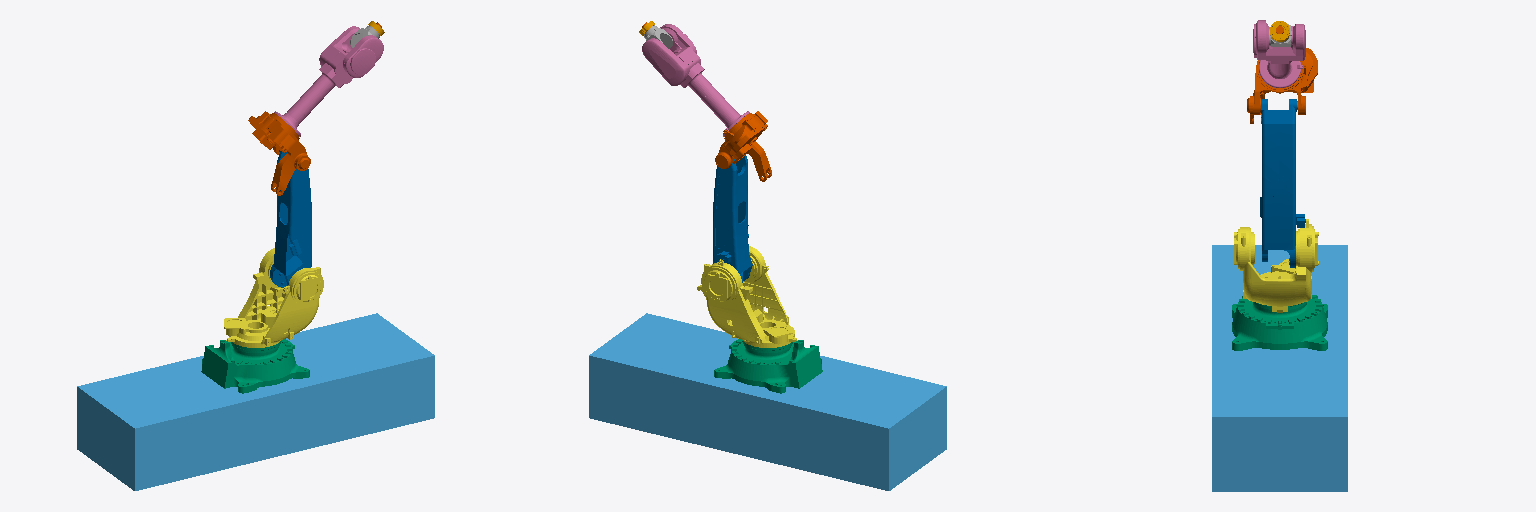
URDF robot description (right_nj130):
<?xml version="1.0" ?>
<!-- =================================================================================== -->
<!-- |    This document was autogenerated by xacro from nj130_sensor.urdf.xacro        | -->
<!-- |    EDITING THIS FILE BY HAND IS NOT RECOMMENDED                                 | -->
<!-- =================================================================================== -->
<robot name="right_nj130" xmlns:xacro="http://ros.org/wiki/xacro">
  <!-- Place the stand in the world -->
  <link name="world"/>
  <!-- Stand macros -->
  <link name="stand">
    <visual>
      <geometry>
        <mesh filename="package://itri_support/meshes/nj130/stand_base.stl" scale="1.0 1.0 1.0"/>
      </geometry>
    </visual>
    <collision>
      <geometry>
        <mesh filename="package://itri_support/meshes/nj130/stand_base.stl" scale="1.0 1.0 1.0"/>
      </geometry>
    </collision>
  </link>
  <!-- place world reference -->
  <joint name="Base_to_stand" type="fixed">
    <parent link="world"/>
    <child link="stand"/>
    <origin rpy="0 0 0" xyz="0 0 0.3"/>
  </joint>
  <!-- meshes: main serial chain -->
  <link name="base_link">
    <inertial>
      <mass value="774.8899"/>
      <orgin rpy="0 0 0" xyz="0.0000 -0.0362 0.1323"/>
      <inertia ixx="33.5119" ixy="-0.0049" ixz="-0.0003" iyy="25.6574" iyz="-0.0198" izz="47.9022"/>
    </inertial>
    <collision name="base_link">
      <origin rpy="0  0  -1.57079632679" xyz="0  0  0"/>
      <geometry>
        <mesh filename="package://itri_support/meshes/nj130/base.STL" scale="1.0 1.0 1.0"/>
      </geometry>
    </collision>
    <visual name="base_link">
      <origin rpy="0  0  -1.57079632679" xyz="0  0  0"/>
      <geometry>
        <mesh filename="package://itri_support/meshes/nj130/base.STL" scale="1.0 1.0 1.0"/>
      </geometry>
    </visual>
  </link>
  <link name="link1">
    <inertial>
      <mass value="413.782044"/>
      <origin rpy="0 0 0" xyz="-0.012546 0.242656 0.296132"/>
      <inertia ixx="32.763251" ixy="0.429344" ixz="0.165571" iyy="32.475622" iyz="10.371882" izz="28.635599"/>
    </inertial>
    <collision name="link1">
      <origin rpy="0  0  0" xyz="0  0  0"/>
      <geometry>
        <mesh filename="package://itri_support/meshes/nj130/link1.STL" scale="1.0 1.0 1.0"/>
      </geometry>
    </collision>
    <visual name="link1">
      <origin rpy="0  0  0" xyz="0  0  0"/>
      <geometry>
        <mesh filename="package://itri_support/meshes/nj130/link1.STL" scale="1.0 1.0 1.0"/>
      </geometry>
    </visual>
  </link>
  <link name="link2">
    <inertial>
      <mass value="179.412103"/>
      <origin rpy="0 0 0" xyz="0.023928 0.523998 0.024200"/>
      <inertia ixx="24.944316" ixy="0.056517" ixz="0.054721" iyy="2.680444" iyz="0.401816" izz="24.097291"/>
    </inertial>
    <collision name="link2">
      <origin rpy="0  0  0" xyz="0  0  0"/>
      <geometry>
        <mesh filename="package://itri_support/meshes/nj130/link2.STL" scale="1.0 1.0 1.0"/>
      </geometry>
    </collision>
    <visual name="link2">
      <origin rpy="0  0  0" xyz="0  0  0"/>
      <geometry>
        <mesh filename="package://itri_support/meshes/nj130/link2.STL" scale="1.0 1.0 1.0"/>
      </geometry>
    </visual>
  </link>
  <link name="link3">
    <inertial>
      <mass value="198.716462"/>
      <origin rpy="0 0 0" xyz="0.216194 -0.018066 -0.014441"/>
      <inertia ixx="6.146618" ixy="-0.569827" ixz="-0.167201" iyy="4.306393" iyz="0.883908" izz="4.125998"/>
    </inertial>
    <collision name="link3">
      <origin rpy="0  0  0" xyz="0  0  0"/>
      <geometry>
        <mesh filename="package://itri_support/meshes/nj130/link3.STL" scale="1.0 1.0 1.0"/>
      </geometry>
    </collision>
    <visual name="link3">
      <origin rpy="0  0  0" xyz="0  0  0"/>
      <geometry>
        <mesh filename="package://itri_support/meshes/nj130/link3.STL" scale="1.0 1.0 1.0"/>
      </geometry>
    </visual>
  </link>
  <link name="link4">
    <inertial>
      <mass value="11.691993"/>
      <orgin rpy="0 0 0" xyz="-0.000010 -0.000140 0.413256"/>
      <inertia ixx="0.394124" ixy="0.000010" ixz="-0.000032" iyy="0.393863" iyz="0.000464" izz="0.046591"/>
    </inertial>
    <collision name="link4">
      <origin rpy="0  0  0" xyz="0  0  0"/>
      <geometry>
        <mesh filename="package://itri_support/meshes/nj130/link4.STL" scale="1.0 1.0 1.0"/>
      </geometry>
    </collision>
    <visual name="link4">
      <origin rpy="0  0  0" xyz="0  0  0"/>
      <geometry>
        <mesh filename="package://itri_support/meshes/nj130/link4.STL" scale="1.0 1.0 1.0"/>
      </geometry>
    </visual>
  </link>
  <link name="link5">
    <inertial>
      <mass value="17.204093"/>
      <orgin rpy="0 0 0" xyz="-0.000967 -0.098289 -0.000467"/>
      <inertia ixx="0.105372" ixy="-0.001203" ixz="0.000079" iyy="0.067485" iyz="0.002341" izz="0.089779"/>
    </inertial>
    <collision name="link5">
      <origin rpy="0  0  0" xyz="0  0  0"/>
      <geometry>
        <mesh filename="package://itri_support/meshes/nj130/link5.STL" scale="1.0 1.0 1.0"/>
      </geometry>
    </collision>
    <visual name="link5">
      <origin rpy="0  0  0" xyz="0  0  0"/>
      <geometry>
        <mesh filename="package://itri_support/meshes/nj130/link5.STL" scale="1.0 1.0 1.0"/>
      </geometry>
    </visual>
  </link>
  <link name="link6">
    <inertial>
      <mass value="3.766890"/>
      <orgin rpy="0 0 0" xyz="0.000000 -0.000095 -0.017652"/>
      <inertia ixx="0.006572" ixy="0.0" ixz="0.0" iyy="0.007020" iyz="0.000035" izz="0.012705"/>
    </inertial>
    <collision name="link6">
      <origin rpy="0  0  0" xyz="0  0  0"/>
      <geometry>
        <mesh filename="package://itri_support/meshes/nj130/link6.STL" scale="1.0 1.0 1.0"/>
      </geometry>
    </collision>
    <visual name="link6">
      <origin rpy="0  0  0" xyz="0  0  0"/>
      <geometry>
        <mesh filename="package://itri_support/meshes/nj130/link6.STL" scale="1.0 1.0 1.0"/>
      </geometry>
    </visual>
  </link>
  <!-- end of link list -->
  <!-- joints: main serial chain -->
  <joint name="joint1" type="revolute">
    <parent link="base_link"/>
    <child link="link1"/>
    <origin rpy="0  0  -1.57079632679" xyz="0  0  0.331"/>
    <axis xyz="0  0  -1"/>
    <dynamics damping="0.7" friction="0.7"/>
    <limit effort="30.0" lower="-3.14159265359" upper="3.14159265359" velocity="1.919862"/>
  </joint>
  <joint name="joint2" type="revolute">
    <parent link="link1"/>
    <child link="link2"/>
    <origin rpy="1.57079632679  0  1.57079632679" xyz="0  0.35  0.499"/>
    <axis xyz="0  0  -1"/>
    <dynamics damping="0.7" friction="0.7"/>
    <limit effort="30.0" lower="-1.308997" upper="1.658" velocity="1.919862"/>
  </joint>
  <joint name="joint3" type="revolute">
    <parent link="link2"/>
    <child link="link3"/>
    <origin rpy="0  0  0" xyz="0  1.16  0"/>
    <axis xyz="0  0  -1"/>
    <dynamics damping="0.7" friction="0.7"/>
    <limit effort="30.0" lower="-4.468" upper="-0.017453" velocity="1.919862"/>
  </joint>
  <joint name="joint4" type="revolute">
    <parent link="link3"/>
    <child link="link4"/>
    <origin rpy="1.57079632679  0  0" xyz="0.25  0  0"/>
    <axis xyz="0  0  -1"/>
    <dynamics damping="0.7" friction="0.7"/>
    <limit effort="30.0" lower="-4.8869" upper="4.8869" velocity="3.31612"/>
  </joint>
  <joint name="joint5" type="revolute">
    <parent link="link4"/>
    <child link="link5"/>
    <origin rpy="-1.57079632679  0  0" xyz="0  0  1.10558"/>
    <axis xyz="0  0  -1"/>
    <dynamics damping="0.7" friction="0.7"/>
    <limit effort="30.0" lower="-2.09439510239" upper="2.09439510239" velocity="3.31612"/>
  </joint>
  <joint name="joint6" type="revolute">
    <parent link="link5"/>
    <child link="link6"/>
    <origin rpy="1.57079632679  3.14159265359  0" xyz="0  -0.21  0"/>
    <axis xyz="0  0  -1"/>
    <dynamics damping="0.7" friction="0.7"/>
    <!-- limit effort="30.0" lower="${-15*pi}" upper="${15*pi}" velocity="4.01425"/ -->
    <limit effort="30.0" lower="-3.14159265359" upper="3.14159265359" velocity="4.01425"/>
  </joint>
  <!-- end of joint list -->
  <!-- ROS-Industrial 'flange' frame: attachment point for EEF models -->
  <link name="flange"/>
  <joint name="link6_flange" type="fixed">
    <origin rpy="0 0 0" xyz="0 0 0"/>
    <parent link="link6"/>
    <child link="flange"/>
  </joint>
  <joint name="stand_to_arm" type="fixed">
    <parent link="stand"/>
    <child link="base_link"/>
    <origin rpy="0 0 0" xyz="0 0 0.3"/>
    <!-- limit effort="30.0" lower="-1.0" upper="1.0" velocity="0.3"/ -->
  </joint>
  <link name="hand">
    <inertial>
      <mass value="0.73"/>
      <origin rpy="0 0 0" xyz="0 0.0015244 -0.9275912"/>
      <inertia ixx="0.00278560230025" ixy="0.0" ixz="0.0" iyy="0.000400033405336" iyz="0.0" izz="0.00256378041832"/>
    </inertial>
    <visual>
      <origin rpy="0 0 0" xyz="0 0 -0.09"/>
      <geometry>
        <mesh filename="package://itri_support/meshes/gripper/visual/hand.stl"/>
      </geometry>
    </visual>
    <collision>
      <origin rpy="0 0 0" xyz="0 0 -0.09"/>
      <geometry>
        <mesh filename="package://itri_support/meshes/gripper/collision/hand.stl"/>
      </geometry>
    </collision>
  </link>
  <!-- link name="leftfinger">
      <inertial>
        <mass value="0.1" />
        <origin xyz="0 0.0145644 0.0227941" rpy="0 0 0" />
        <inertia ixx="3.01220925051e-05" ixy="0.0" ixz="0.0" iyy="2.95873808038e-05" iyz="0.0" izz="6.95125211657e-06" />
      </inertial>
      <visual>
        <origin xyz="${xyz}" rpy="0 0 0"/>
        <geometry>
          <mesh filename="package://itri_support/meshes/gripper/visual/finger.dae"/>
        </geometry>
      </visual>
      <collision>
        <origin xyz="${xyz}" rpy="0 0 0"/>
        <geometry>
          <mesh filename="package://itri_support/meshes/gripper/collision/finger.stl"/>
        </geometry>
      </collision>
    </link>
    <link name="rightfinger">
      <inertial>
        <mass value="0.1" />
        <origin xyz="0 -0.0145644 0.0227941" rpy="0 0 ${pi}" />
        <inertia ixx="3.01220925051e-05" ixy="0.0" ixz="0.0" iyy="2.95873808038e-05" iyz="0.0" izz="6.95125211657e-06" />
      </inertial>
      <visual>
        <origin xyz="${xyz}" rpy="0 0 ${pi}"/>
        <geometry>
          <mesh filename="package://itri_support/meshes/gripper/visual/finger.dae"/>
        </geometry>
      </visual>
      <collision>
        <origin xyz="${xyz}" rpy="0 0 ${pi}"/>
        <geometry>
          <mesh filename="package://itri_support/meshes/gripper/collision/finger.stl"/>
        </geometry>
      </collision>
    </link -->
  <link name="rightfinger">
    <inertial>
      <origin rpy="0 0 0" xyz="-0.01 0 0"/>
      <mass value="0.1"/>
      <inertia ixx="0.002" ixy="0" ixz="0" iyy="0.002" iyz="0" izz="0.002"/>
    </inertial>
    <visual>
      <origin rpy="0 0 0" xyz="0 0.11685 0"/>
      <geometry>
        <mesh filename="package://itri_support/meshes/gripper/visual/r_gripper_finger_link.stl"/>
      </geometry>
    </visual>
    <collision>
      <origin rpy="0 0 0" xyz="0 0.11685 0"/>
      <geometry>
        <mesh filename="package://itri_support/meshes/gripper/collision/r_gripper_finger_link.stl"/>
      </geometry>
    </collision>
  </link>
  <link name="leftfinger">
    <inertial>
      <origin rpy="0 0 0" xyz="-0.01 0 0"/>
      <mass value="0.1"/>
      <inertia ixx="0.002" ixy="0" ixz="0" iyy="0.002" iyz="0" izz="0.002"/>
    </inertial>
    <visual>
      <origin rpy="0 0 0" xyz="0 -0.11685 0"/>
      <geometry>
        <mesh filename="package://itri_support/meshes/gripper/visual/l_gripper_finger_link.stl"/>
      </geometry>
    </visual>
    <collision>
      <origin rpy="0 0 0" xyz="0 -0.11685 0"/>
      <geometry>
        <mesh filename="package://itri_support/meshes/gripper/collision/l_gripper_finger_link.stl"/>
      </geometry>
    </collision>
  </link>
  <!-- joint name="${prefix}finger_joint1" type="prismatic">
      <parent link="${prefix}hand"/>
      <child link="${prefix}leftfinger"/>
      <origin xyz="0 0 0.0584" rpy="0 0 0"/>
      <axis xyz="0 1 0"/>
      <limit effort="20" lower="0.0" upper="0.05" velocity="0.05"/>
    </joint>
    <joint name="${prefix}finger_joint2" type="prismatic">
      <parent link="${prefix}hand"/>
      <child link="${prefix}rightfinger"/>
      <origin xyz="0 0 0.0584" rpy="0 0 0"/>
      <axis xyz="0 -1 0"/>
      <limit effort="20" lower="0.0" upper="0.05" velocity="0.05"/>
    </joint -->
  <joint name="finger_joint1" type="prismatic">
    <origin rpy="0 -1.57079632679 0" xyz="0 0 0"/>
    <parent link="hand"/>
    <child link="rightfinger"/>
    <axis xyz="0 1 0"/>
    <limit effort="60" lower="0.0" upper="0.05" velocity="0.05"/>
  </joint>
  <joint name="finger_joint2" type="prismatic">
    <origin rpy="0 -1.57079632679 0" xyz="0 0 0"/>
    <parent link="hand"/>
    <child link="leftfinger"/>
    <axis xyz="0 -1 0"/>
    <limit effort="60" lower="0.0" upper="0.05" velocity="0.05"/>
  </joint>
  <joint name="hand_joint" type="fixed">
    <parent link="ft_sensor_link"/>
    <child link="hand"/>
    <origin rpy="0 0 0" xyz="0 0 0.095"/>
  </joint>
  <!-- gazebo reference="${prefix}hand_joint">
        <disableFixedJointLumping>true</disableFixedJointLumping>
      </gazebo -->
  <gazebo reference="hand">
    <material>Gazebo/Green</material>
    <self_collide>true</self_collide>
  </gazebo>
  <gazebo reference="leftfinger">
    <material>Gazebo/Turquoise</material>
    <self_collide>true</self_collide>
  </gazebo>
  <gazebo reference="rightfinger">
    <material>Gazebo/Turquoise</material>
    <self_collide>true</self_collide>
  </gazebo>
  <transmission name="finger_joint1_trans">
    <type>transmission_interface/SimpleTransmission</type>
    <joint name="finger_joint1">
      <hardwareInterface>hardware_interface/PositionJointInterface</hardwareInterface>
    </joint>
    <actuator name="finger_joint1_motor">
      <hardwareInterface>hardware_interface/PositionJointInterface</hardwareInterface>
      <mechanicalReduction>1</mechanicalReduction>
    </actuator>
  </transmission>
  <transmission name="finger_joint2_trans">
    <type>transmission_interface/SimpleTransmission</type>
    <joint name="finger_joint2">
      <hardwareInterface>hardware_interface/PositionJointInterface</hardwareInterface>
    </joint>
    <actuator name="finger_joint2_motor">
      <hardwareInterface>hardware_interface/PositionJointInterface</hardwareInterface>
      <mechanicalReduction>1</mechanicalReduction>
    </actuator>
  </transmission>
  <link name="ft_sensor_link">
    <inertial>
      <mass value="0.01"/>
      <origin rpy="0 0 0" xyz="0 0 0"/>
      <inertia ixx="0.01" ixy="0" ixz="0" iyy="0.01" iyz="0" izz="0.01"/>
    </inertial>
    <collision>
      <origin rpy="0 0 0" xyz="0 0 0"/>
      <geometry>
        <mesh filename="package://itri_support/meshes/sensor/ft_sensor.stl" scale="1.0 1.0 1.0"/>
      </geometry>
    </collision>
    <visual>
      <origin rpy="0 0 0" xyz="0 0 0"/>
      <geometry>
        <mesh filename="package://itri_support/meshes/sensor/ft_sensor.stl" scale="1.0 1.0 1.0"/>
      </geometry>
    </visual>
  </link>
  <joint name="ft_sensor_joint" type="fixed">
    <parent link="link6"/>
    <child link="ft_sensor_link"/>
    <origin rpy="0 0 0" xyz="0 0 0.01"/>
  </joint>
  <gazebo reference="ft_sensor_link">
    <material>Gazebo/Black</material>
    <gravity>true</gravity>
    <sensor name="imu_sensor" type="imu">
      <always_on>true</always_on>
      <update_rate>1000</update_rate>
      <visualize>true</visualize>
      <topic>__default_topic__</topic>
      <plugin filename="libgazebo_ros_imu_sensor.so" name="imu_plugin">
        <topicName>imu</topicName>
        <bodyName>ft_sensor_link</bodyName>
        <updateRateHZ>200.0</updateRateHZ>
        <gaussianNoise>0.0</gaussianNoise>
        <xyzOffset>0 0 0</xyzOffset>
        <rpyOffset>0 0 0</rpyOffset>
        <frameName>ft_sensor_link</frameName>
      </plugin>
      <pose>0 0 0 0 0 0</pose>
    </sensor>
  </gazebo>
  <gazebo reference="ft_sensor_joint">
    <disableFixedJointLumping>true</disableFixedJointLumping>
    <provideFeedback>true</provideFeedback>
  </gazebo>
  <gazebo>
    <plugin filename="libgazebo_ros_ft_sensor.so" name="ft_sensor">
      <updateRate>1000.0</updateRate>
      <topicName>ft_raw</topicName>
      <jointName>ft_sensor_joint</jointName>
      <gaussianNoise>0.0</gaussianNoise>
    </plugin>
  </gazebo>
  <gazebo reference="base_link">
    <material>Gazebo/RedBright</material>
  </gazebo>
  <gazebo reference="link1">
    <material>Gazebo/RedBright</material>
  </gazebo>
  <gazebo reference="link2">
    <material>Gazebo/RedBright</material>
  </gazebo>
  <gazebo reference="link3">
    <material>Gazebo/RedBright</material>
  </gazebo>
  <gazebo reference="link4">
    <material>Gazebo/RedBright</material>
  </gazebo>
  <gazebo reference="link5">
    <material>Gazebo/RedBright</material>
  </gazebo>
  <gazebo reference="link6">
    <material>Gazebo/RedBright</material>
  </gazebo>
  <transmission name="trans1">
    <type>transmission_interface/SimpleTransmission</type>
    <joint name="joint1">
      <hardwareInterface>hardware_interface/PositionJointInterface</hardwareInterface>
    </joint>
    <actuator name="motor1">
      <hardwareInterface>hardware_interface/PositionJointInterface</hardwareInterface>
      <mechanicalReduction>1</mechanicalReduction>
    </actuator>
  </transmission>
  <transmission name="trans2">
    <type>transmission_interface/SimpleTransmission</type>
    <joint name="joint2">
      <hardwareInterface>hardware_interface/PositionJointInterface</hardwareInterface>
    </joint>
    <actuator name="motor2">
      <hardwareInterface>hardware_interface/PositionJointInterface</hardwareInterface>
      <mechanicalReduction>1</mechanicalReduction>
    </actuator>
  </transmission>
  <transmission name="trans3">
    <type>transmission_interface/SimpleTransmission</type>
    <joint name="joint3">
      <hardwareInterface>hardware_interface/PositionJointInterface</hardwareInterface>
    </joint>
    <actuator name="motor3">
      <hardwareInterface>hardware_interface/PositionJointInterface</hardwareInterface>
      <mechanicalReduction>1</mechanicalReduction>
    </actuator>
  </transmission>
  <transmission name="trans4">
    <type>transmission_interface/SimpleTransmission</type>
    <joint name="joint4">
      <hardwareInterface>hardware_interface/PositionJointInterface</hardwareInterface>
    </joint>
    <actuator name="motor4">
      <hardwareInterface>hardware_interface/PositionJointInterface</hardwareInterface>
      <mechanicalReduction>1</mechanicalReduction>
    </actuator>
  </transmission>
  <transmission name="trans5">
    <type>transmission_interface/SimpleTransmission</type>
    <joint name="joint5">
      <hardwareInterface>hardware_interface/PositionJointInterface</hardwareInterface>
    </joint>
    <actuator name="motor5">
      <hardwareInterface>hardware_interface/PositionJointInterface</hardwareInterface>
      <mechanicalReduction>1</mechanicalReduction>
    </actuator>
  </transmission>
  <transmission name="trans6">
    <type>transmission_interface/SimpleTransmission</type>
    <joint name="joint6">
      <hardwareInterface>hardware_interface/PositionJointInterface</hardwareInterface>
    </joint>
    <actuator name="motor6">
      <hardwareInterface>hardware_interface/PositionJointInterface</hardwareInterface>
      <mechanicalReduction>1</mechanicalReduction>
    </actuator>
  </transmission>
  <!-- gazebo ros control -->
  <gazebo>
    <plugin filename="libgazebo_ros_control.so" name="gazebo_ros_control">
      <robotSimType>gazebo_ros_control/DefaultRobotHWSim</robotSimType>
      <legacyModeNS>true</legacyModeNS>
    </plugin>
  </gazebo>
  <!-- gazebo grasp fix plugin -->
  <gazebo>
    <plugin filename="libgazebo_grasp_fix.so" name="gazebo_grasp_fix">
      <arm>
        <arm_name>nj130</arm_name>
        <palm_link>link6</palm_link>
        <gripper_link>leftfinger</gripper_link>
        <gripper_link>rightfinger</gripper_link>
      </arm>
      <forces_angle_tolerance>90</forces_angle_tolerance>
      <update_rate>4</update_rate>
      <grip_count_threshold>3</grip_count_threshold>
      <max_grip_count>8</max_grip_count>
      <release_tolerance>0.001</release_tolerance>
      <disable_collisions_on_attach>false</disable_collisions_on_attach>
      <contact_topic>__default_topic__</contact_topic>
    </plugin>
  </gazebo>
</robot>

--- Render facts (derived) ---
The picture shows the robot from 3 angles, left to right: view 1: azimuth 30°, elevation 25°; view 2: azimuth 150°, elevation 25°; view 3: azimuth 270°, elevation 25°; orthographic projection.
Robot: right_nj130 — 14 links, 13 joints (6 revolute, 2 prismatic, 5 fixed); root link world; default pose: joints at zero except 1 at the middle of their limits (joint3 = -2.24).
Links seen in each view (by area): view 1: stand, link1, base_link, link2, link4, link3; view 2: stand, link1, base_link, link2, link4, link3; view 3: stand, link2, base_link, link1, link4, link3.
Boxes of the visible links, left/top/right/bottom form: stand: left=77, top=313, right=434, bottom=490; link1: left=224, top=248, right=323, bottom=347; base_link: left=201, top=339, right=309, bottom=393; link2: left=270, top=150, right=311, bottom=287; link4: left=274, top=26, right=383, bottom=136; link3: left=248, top=111, right=310, bottom=195; stand: left=589, top=313, right=946, bottom=490; link1: left=697, top=246, right=797, bottom=347; base_link: left=714, top=339, right=822, bottom=393; link2: left=713, top=155, right=752, bottom=282; link4: left=642, top=24, right=749, bottom=136; link3: left=715, top=111, right=771, bottom=181; stand: left=1212, top=245, right=1347, bottom=491; link2: left=1260, top=99, right=1305, bottom=267; base_link: left=1232, top=295, right=1327, bottom=350; link1: left=1234, top=219, right=1318, bottom=312; link4: left=1253, top=20, right=1305, bottom=87; link3: left=1247, top=48, right=1317, bottom=123.
Size in the robot's own frame: 3 by 1 by 3.66 metres.
9 mesh visuals loaded from 12 distinct referenced files (9 binary STL); not drawn: 3 (reference not matched to a file when rendering).
